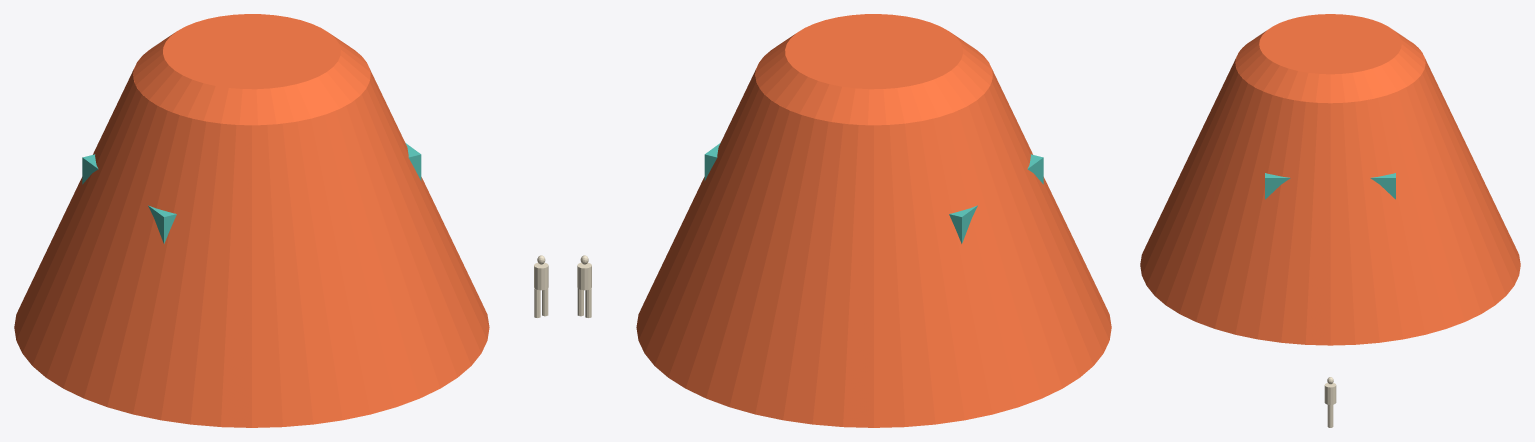
Rendered from entry_vehicle.obj.
The picture shows the model from 3 angles, left to right: view 1: azimuth 30°, elevation 25°; view 2: azimuth 150°, elevation 25°; view 3: azimuth 270°, elevation 25°; orthographic projection. The views are drawn at different scales.
Visible parts, largest first — view 1: backshell, crew_module, person; view 2: backshell, crew_module, person; view 3: backshell, crew_module, person.
Boxes of the visible parts, bbox=[...] form: backshell: bbox=[14, 14, 489, 427]; crew_module: bbox=[82, 143, 421, 243]; person: bbox=[534, 255, 548, 317]; backshell: bbox=[636, 14, 1111, 427]; crew_module: bbox=[704, 143, 1043, 243]; person: bbox=[577, 255, 591, 317]; backshell: bbox=[1140, 14, 1520, 345]; crew_module: bbox=[1265, 173, 1395, 199]; person: bbox=[1324, 377, 1336, 427].
Bounding box in the file's own units: 15.61 × 10.65 × 12.8.
